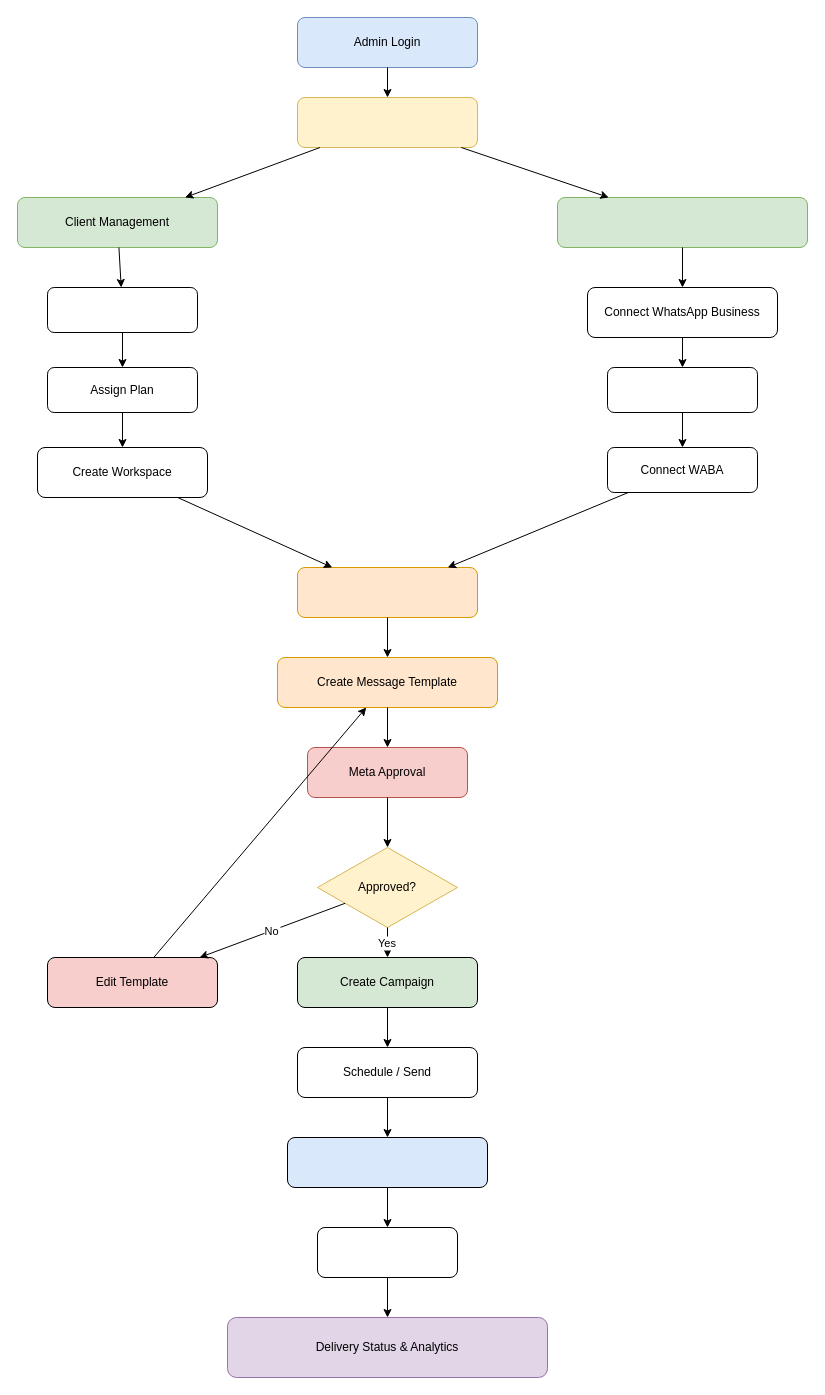
Some shapes in this 825 by 1395 pixel diagram are drawn without their labels. The box of each missing label's shape, as (x1, y1, x2, y2) in pixels:
Create Client: (46, 286, 198, 332)
Dashboard: (296, 96, 478, 148)
Recipient: (316, 1226, 458, 1278)
Upload Contacts: (296, 566, 478, 618)
Verify Business: (606, 366, 758, 412)
WhatsApp Account Management: (556, 196, 808, 248)
WhatsApp Cloud API: (286, 1136, 488, 1188)
